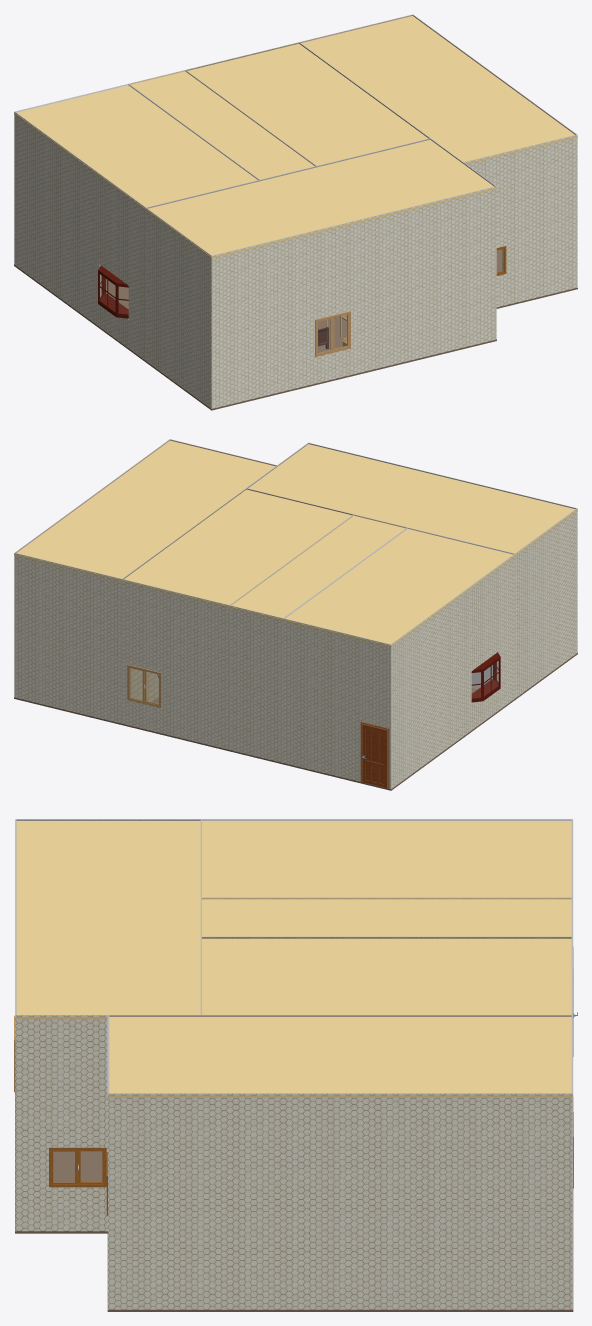
File: ProcTHOR-Train-193.glb
3 views of the same model, one above another, from view 1: azimuth 30°, elevation 25°; view 2: azimuth 150°, elevation 25°; view 3: azimuth 270°, elevation 25° (orthographic). The views are drawn at different scales.
Parts seen in each view (by area): view 1: WallInside#wall|exterior|3.92|11.76|13.72|11.76, WallInside#wall|exterior|13.72|0.00|13.72|7.84, Ceiling#room|5|c, Ceiling#room|6|c, Ceiling#room|2|c, Ceiling#room|4|c, WallInside#wall|exterior|0.00|9.80|3.92|9.80, WallInside#wall|exterior|13.72|7.84|13.72|11.76, Ceiling#room|3|c, Floor#room|5|f, Window_Bay_2, Floor#room|2|f (+1 smaller); view 2: WallInside#wall|exterior|13.72|0.00|13.72|7.84, Ceiling#room|6|c, Ceiling#room|5|c, WallInside#wall|exterior|0.00|0.00|3.92|0.00, WallInside#wall|exterior|3.92|0.00|7.84|0.00, WallInside#wall|exterior|9.80|0.00|13.72|0.00, Ceiling#room|2|c, Ceiling#room|4|c, WallInside#wall|exterior|13.72|7.84|13.72|11.76, WallInside#wall|exterior|7.84|0.00|9.80|0.00, Ceiling#room|3|c, Doorway_10 (+6 smaller); view 3: WallInside#wall|exterior|0.00|0.00|0.00|9.80, Ceiling#room|6|c, Ceiling#room|5|c, Ceiling#room|2|c, Ceiling#room|4|c, WallInside#wall|exterior|3.92|9.80|3.92|11.76, Ceiling#room|3|c, Floor#room|5|f, Floor#room|6|f, Window_Slider_48x36, WallInside#wall|3|9.80|0.00|9.80|7.84, WallInside#wall|2|13.72|0.00|13.72|7.84 (+2 smaller).
Boxes of the visible parts, x1,y1,x2,y2 form: WallInside#wall|exterior|3.92|11.76|13.72|11.76: [211, 186, 496, 408]; WallInside#wall|exterior|13.72|0.00|13.72|7.84: [14, 112, 145, 360]; Ceiling#room|5|c: [146, 140, 496, 258]; Ceiling#room|6|c: [301, 16, 577, 164]; Ceiling#room|2|c: [14, 85, 257, 210]; Ceiling#room|4|c: [186, 43, 428, 165]; WallInside#wall|exterior|0.00|9.80|3.92|9.80: [464, 135, 577, 307]; WallInside#wall|exterior|13.72|7.84|13.72|11.76: [145, 208, 211, 408]; Ceiling#room|3|c: [130, 71, 314, 180]; Floor#room|5|f: [146, 316, 496, 410]; Window_Bay_2: [98, 265, 128, 318]; Floor#room|2|f: [14, 264, 145, 362]; WallInside#wall|exterior|13.72|0.00|13.72|7.84: [391, 554, 515, 788]; Ceiling#room|6|c: [14, 440, 275, 581]; Ceiling#room|5|c: [247, 444, 577, 556]; WallInside#wall|exterior|0.00|0.00|3.92|0.00: [14, 553, 122, 723]; WallInside#wall|exterior|3.92|0.00|7.84|0.00: [122, 579, 229, 749]; WallInside#wall|exterior|9.80|0.00|13.72|0.00: [283, 618, 390, 788]; Ceiling#room|2|c: [282, 529, 515, 647]; Ceiling#room|4|c: [121, 489, 351, 607]; WallInside#wall|exterior|13.72|7.84|13.72|11.76: [515, 508, 577, 697]; WallInside#wall|exterior|7.84|0.00|9.80|0.00: [229, 605, 283, 762]; Ceiling#room|3|c: [229, 515, 405, 620]; Doorway_10: [360, 721, 389, 788]; WallInside#wall|exterior|0.00|0.00|0.00|9.80: [108, 1093, 572, 1309]; Ceiling#room|6|c: [107, 1017, 573, 1097]; Ceiling#room|5|c: [15, 820, 202, 1019]; Ceiling#room|2|c: [200, 820, 573, 899]; Ceiling#room|4|c: [200, 938, 573, 1016]; WallInside#wall|exterior|3.92|9.80|3.92|11.76: [15, 1015, 107, 1231]; Ceiling#room|3|c: [200, 899, 573, 937]; Floor#room|5|f: [15, 1092, 107, 1233]; Floor#room|6|f: [107, 1231, 573, 1311]; Window_Slider_48x36: [49, 1147, 106, 1187]; WallInside#wall|3|9.80|0.00|9.80|7.84: [201, 897, 572, 899]; WallInside#wall|2|13.72|0.00|13.72|7.84: [202, 819, 572, 820].
Size of what is drawn, in the model's own units: 13.99 by 5.09 by 11.93.
324 materials, 156 textured.
